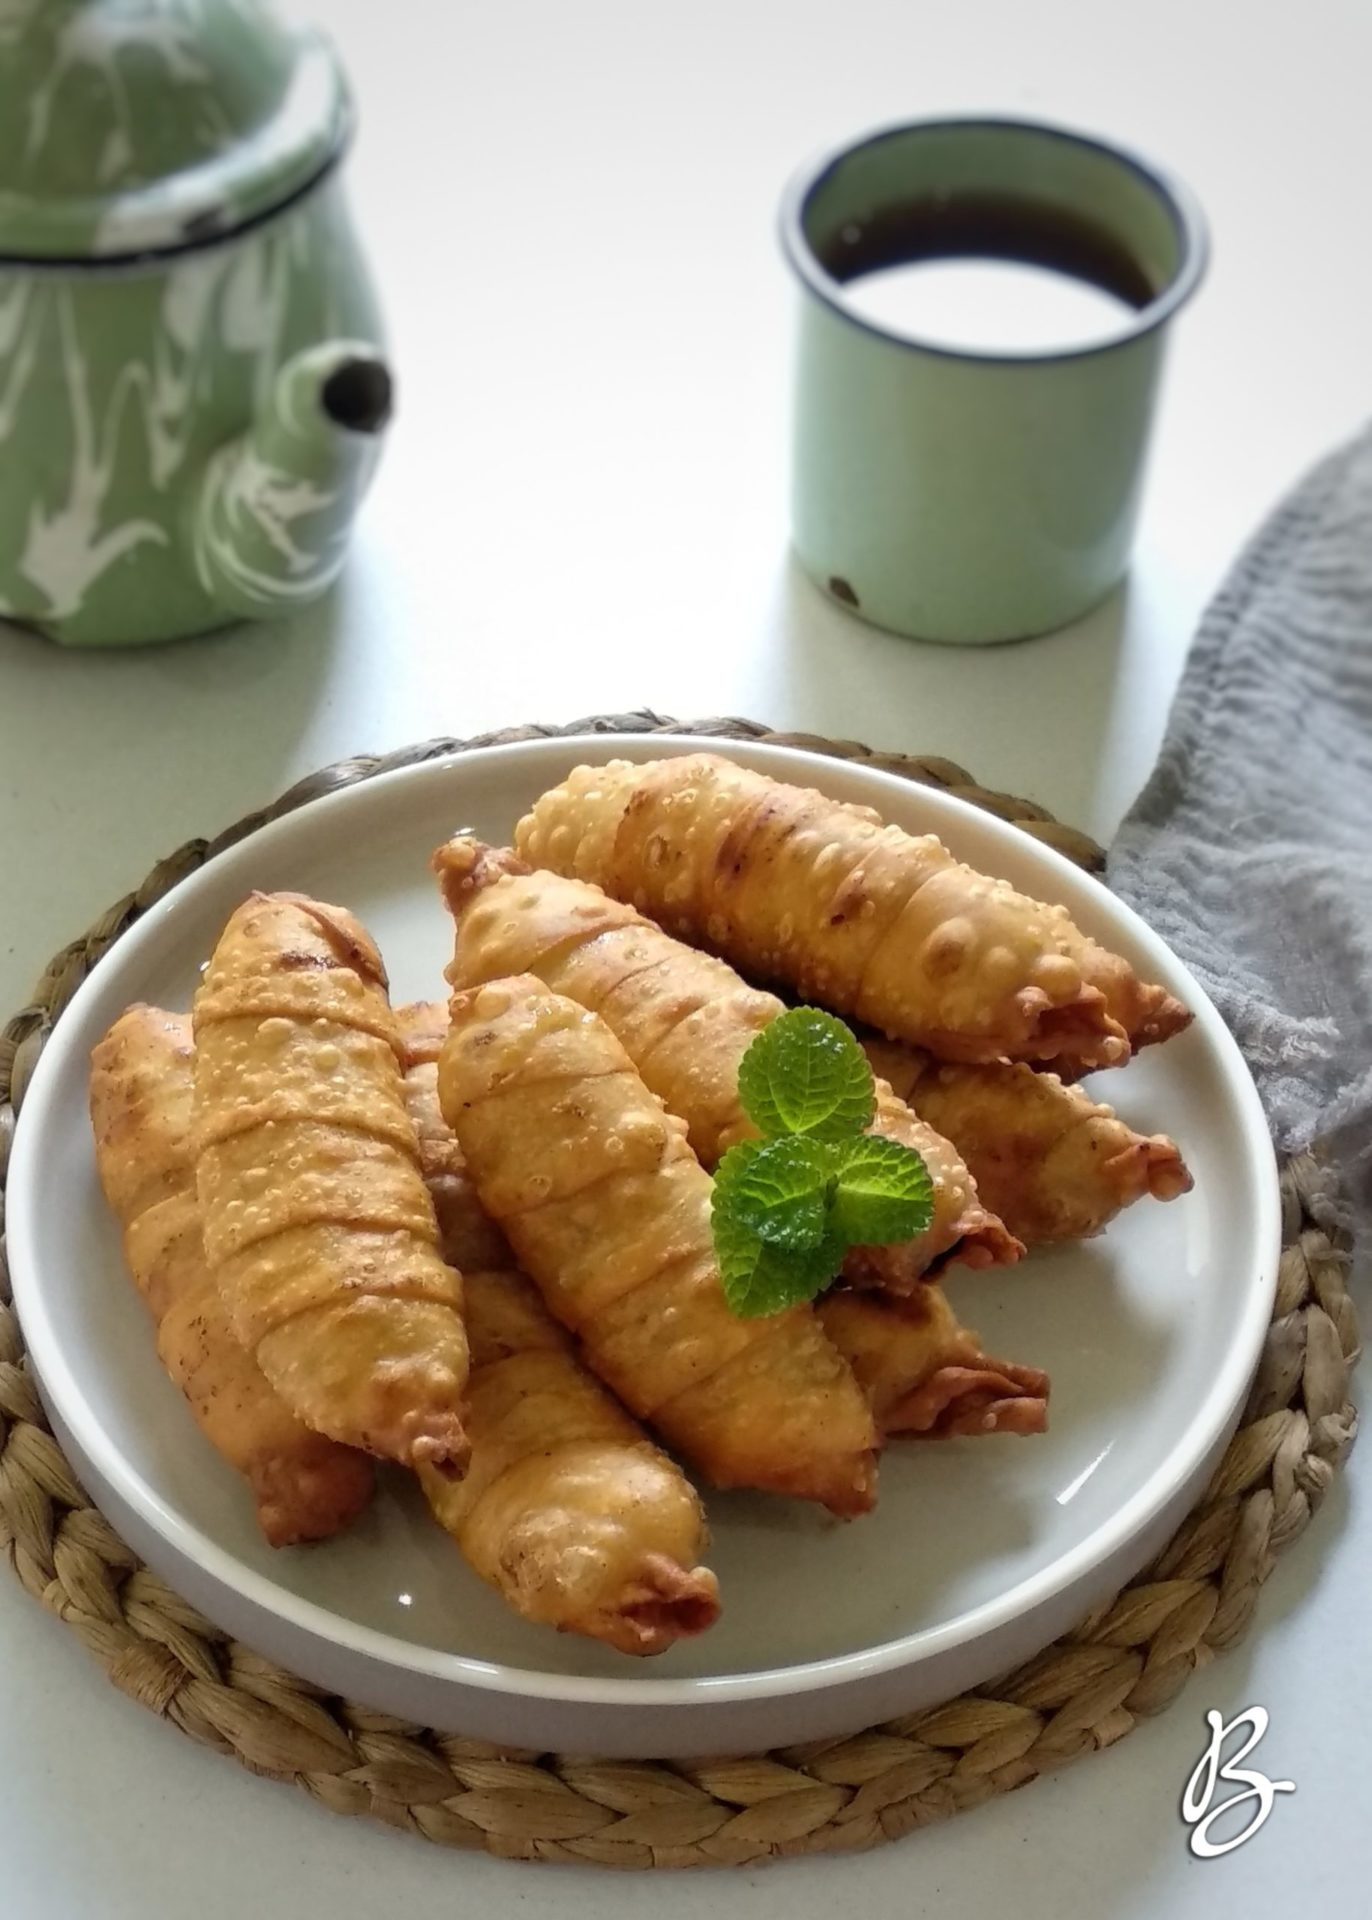pisang_molen: (441, 979, 888, 1522), (503, 753, 1198, 1085), (189, 889, 494, 1482)
